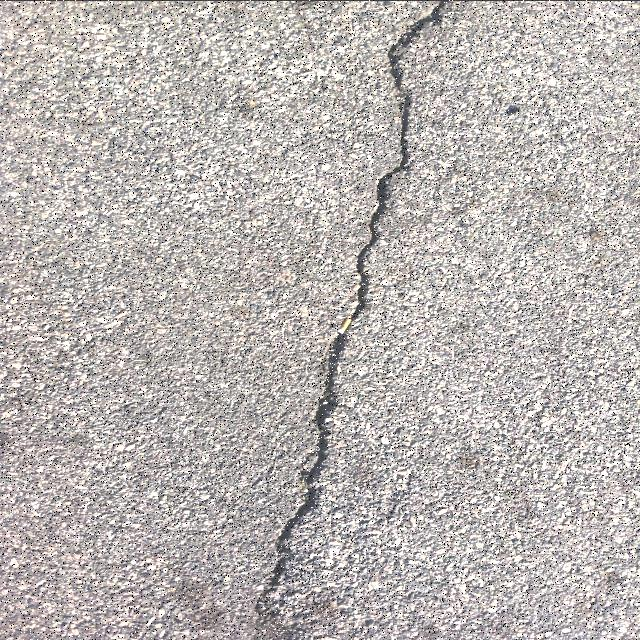Crack: (249, 0, 452, 640)
